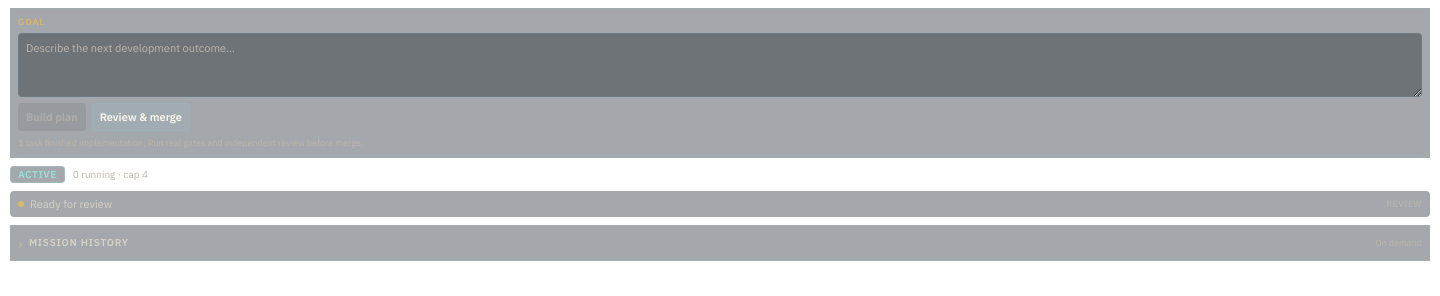
OrchestratorPanel › keeps exact review and merge authority in one backend command
The width and height of the screenshot is (1440, 296).
Expected: the text "Ready for review" is shown, [30,197,112,211]
Click the button "Review & merge" at [141, 117], box [92,103,190,131]
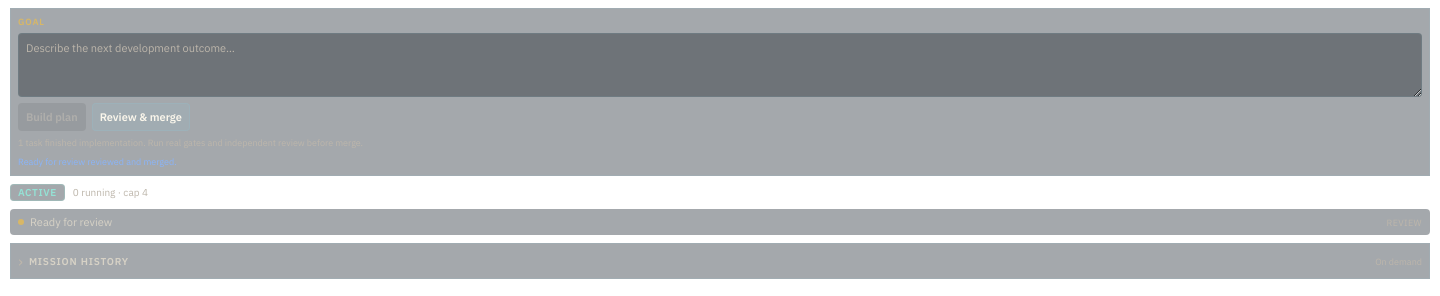
Now the text "Ready for review reviewed and merged." is shown, box [18,156,177,167]
